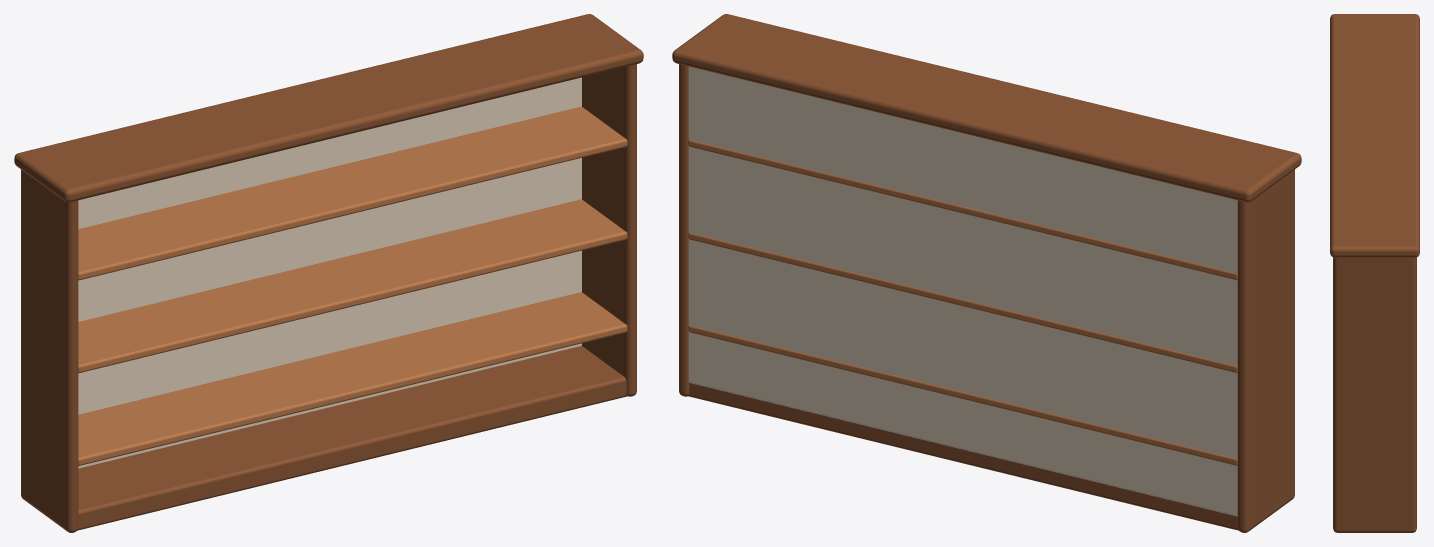
Rendered from shelf.glb.
3 views of the same model, side by side, from view 1: azimuth 30°, elevation 25°; view 2: azimuth 150°, elevation 25°; view 3: azimuth 270°, elevation 25° (orthographic). The views are drawn at different scales.
Visible parts, largest first — view 1: Back, Crown, Plinth, Board1, Board0, Board2, Side-1, Side1; view 2: Back, Crown, Side-1, Plinth, Board1, Board0, Board2, Side1; view 3: Side1, Crown.
Part boxes in pixels (<box>): Back: <box>78,77,581,468</box>; Crown: <box>14,14,643,202</box>; Plinth: <box>77,346,627,530</box>; Board1: <box>78,199,627,373</box>; Board0: <box>78,292,627,465</box>; Board2: <box>78,106,627,280</box>; Side-1: <box>21,169,78,532</box>; Side1: <box>582,64,636,396</box>; Back: <box>688,66,1237,516</box>; Crown: <box>672,14,1301,202</box>; Side-1: <box>1237,169,1294,532</box>; Plinth: <box>688,383,1238,530</box>; Board1: <box>688,232,1237,372</box>; Board0: <box>688,325,1237,465</box>; Board2: <box>688,140,1237,280</box>; Side1: <box>679,64,689,396</box>; Side1: <box>1333,257,1416,532</box>; Crown: <box>1330,14,1419,257</box>.
Size of the model in its own units: 3.66 by 2.09 by 0.59.
